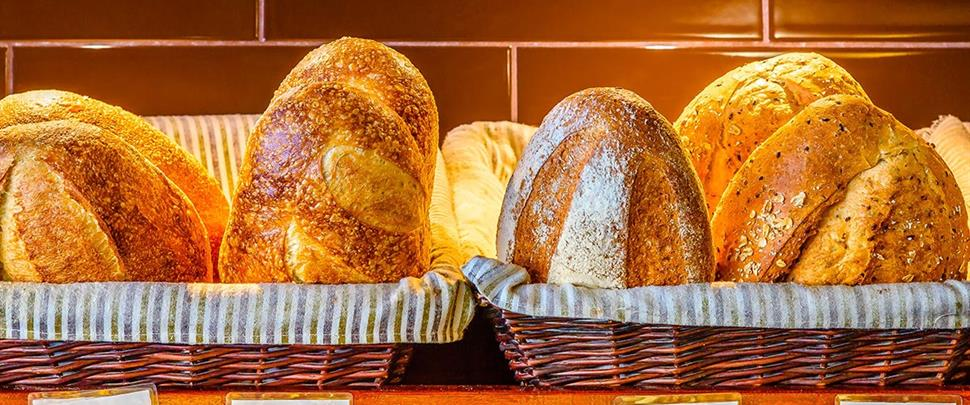slice of bread: (245, 40, 439, 279), (731, 86, 951, 279), (6, 90, 220, 279), (505, 77, 697, 271)
